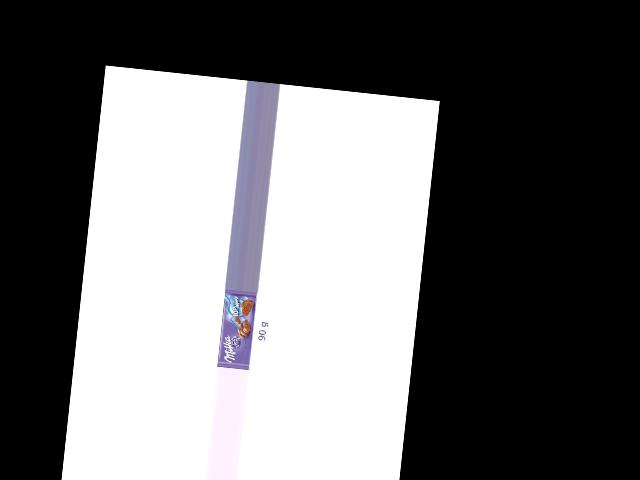chocolate: (216, 288, 257, 368)
